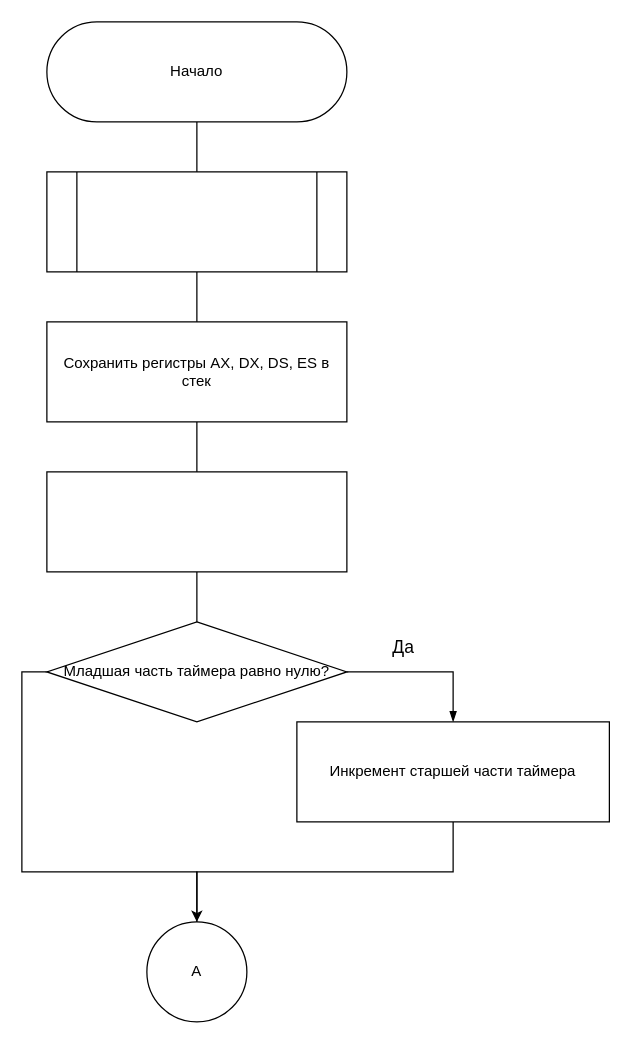
Some shapes in this 631 by 1044 pixel diagram are drawn without their labels. The centre of each missing label's shape, as x and y in pixels:
"Вызвать cопрограмму sub_1" goes at point 196,221.
"Инкремент младшей части таймера" goes at point 196,521.
